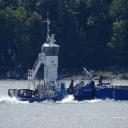tugboat: (8, 18, 98, 105)
